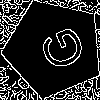G: (29, 24, 88, 78)
